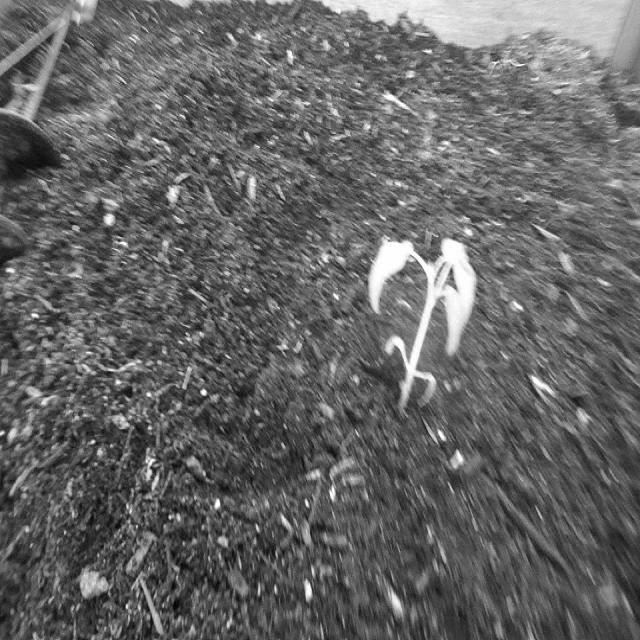Healthy: (356, 204, 486, 444)
